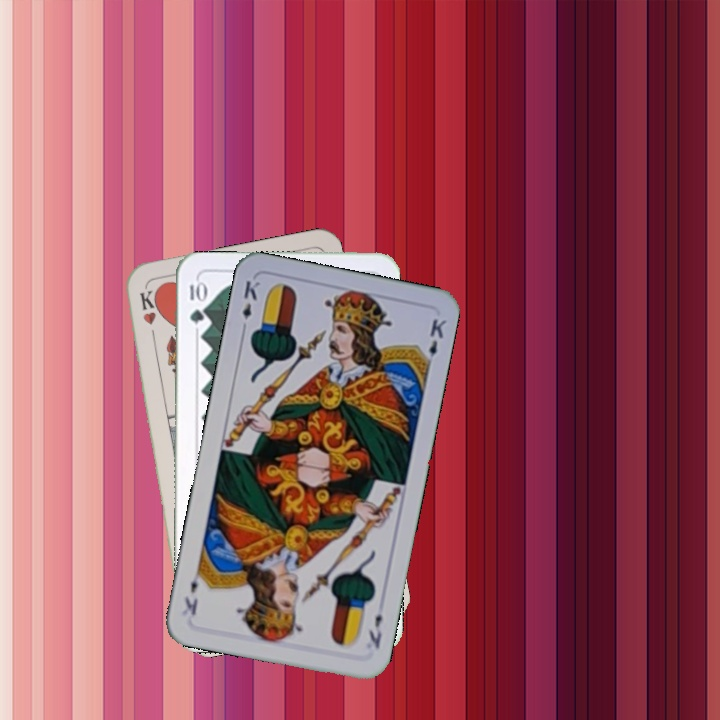EK: (237, 276, 263, 335), (364, 610, 385, 651)
G10: (186, 277, 206, 326)
HK: (135, 286, 159, 346)
